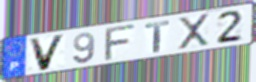2: (213, 9, 247, 46)
9: (72, 31, 96, 64)
F: (103, 23, 139, 63)
T: (144, 19, 171, 54)
V: (27, 32, 68, 72)
X: (177, 12, 212, 52)
